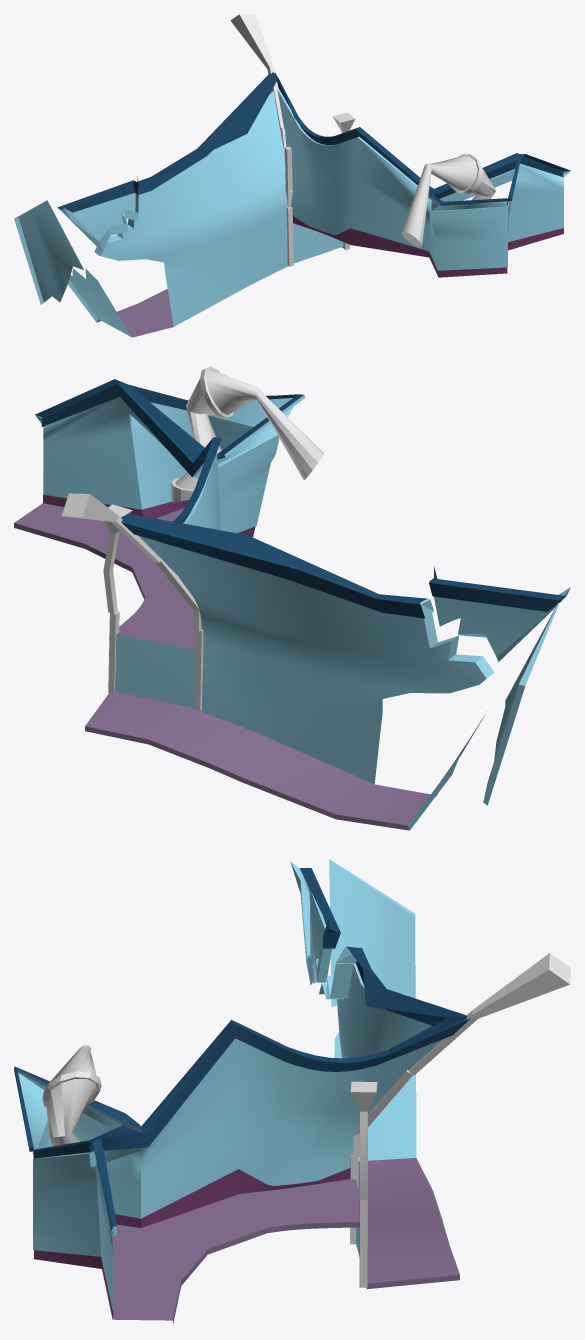
The model's file is Destructible_Corridor_Pre.fbx.
3 views of the same model, one above another, from view 1: azimuth 30°, elevation 25°; view 2: azimuth 150°, elevation 25°; view 3: azimuth 270°, elevation 25° (orthographic). The views are drawn at different scales.
Parts seen in each view (by area): view 1: Corridor_Destructible, Tubo, Wood; view 2: Corridor_Destructible, Tubo, Wood; view 3: Corridor_Destructible, Wood, Tubo.
Part boxes in pixels (x1,y1,x2,y2): Corridor_Destructible: [14, 72, 570, 337]; Tubo: [402, 154, 495, 247]; Wood: [230, 14, 355, 266]; Corridor_Destructible: [14, 379, 570, 830]; Tubo: [171, 366, 324, 502]; Wood: [62, 493, 203, 711]; Corridor_Destructible: [14, 859, 469, 1323]; Wood: [350, 953, 570, 1287]; Tubo: [42, 1045, 101, 1146].
Size of the model in its own units: 5073 by 2450 by 3573.
